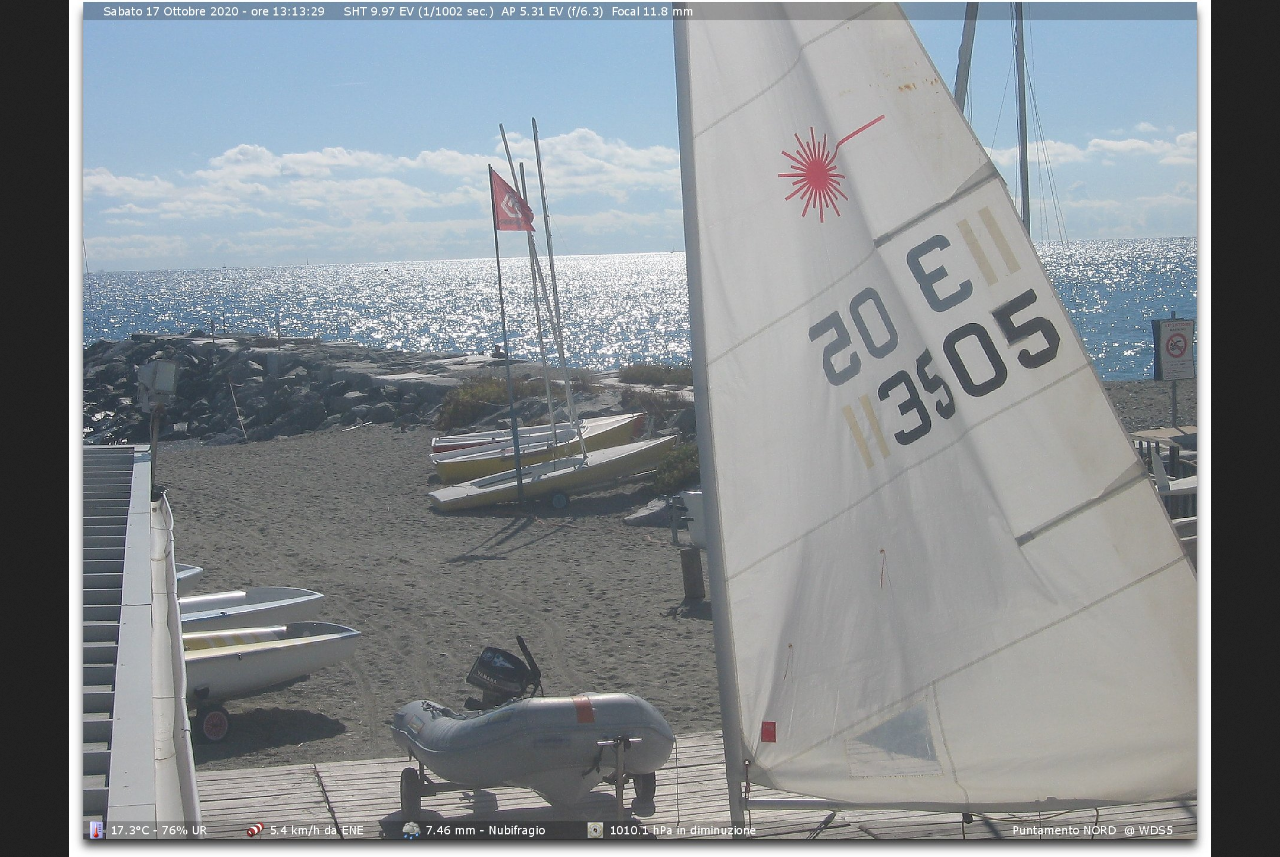maybe: (488, 165, 534, 233)
